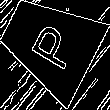P_NW: (21, 16, 78, 72)
